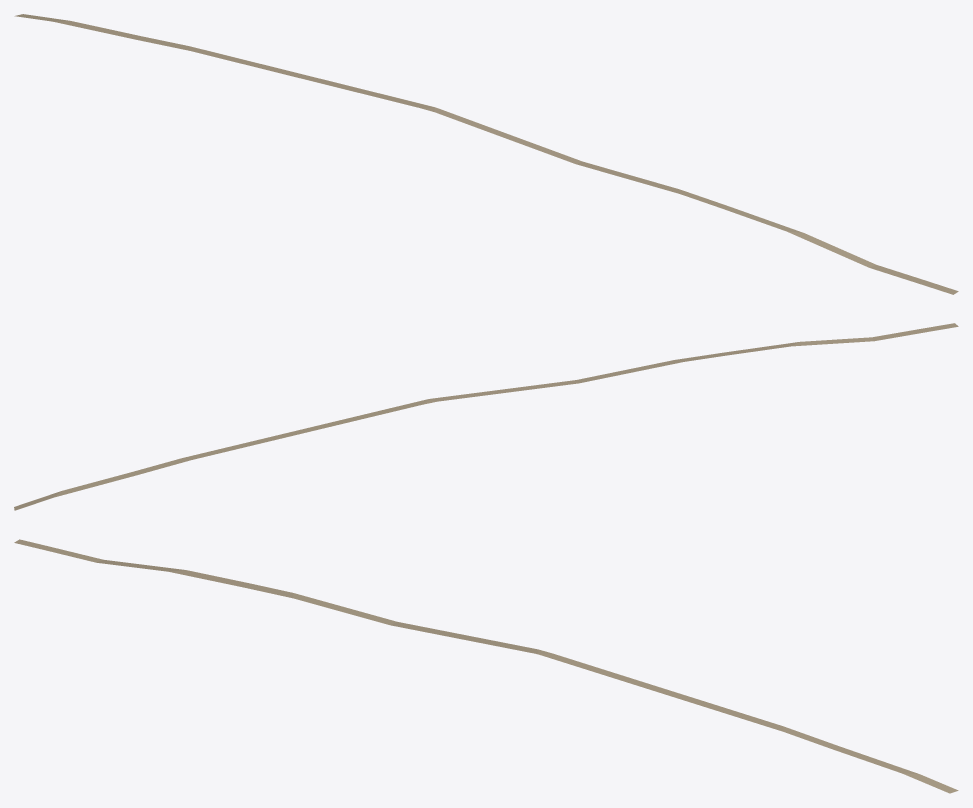
The model's file is farm_-23_-30_track.glb.
The picture shows the model from 3 angles, top to bottom: view 1: azimuth 90°, elevation 25°; view 2: azimuth 150°, elevation 25°; view 3: azimuth 270°, elevation 25°; orthographic projection. The views are drawn at different scales.
Parts seen in each view (by area): view 1: geometry_0; view 2: geometry_0; view 3: geometry_0.
Part boxes in pixels (x1=…): geometry_0: x1=14, y1=14, x2=958, y2=294; geometry_0: x1=14, y1=323, x2=958, y2=510; geometry_0: x1=14, y1=539, x2=958, y2=793.
Bounding box in the file's own units: 207 × 13.13 × 309.
